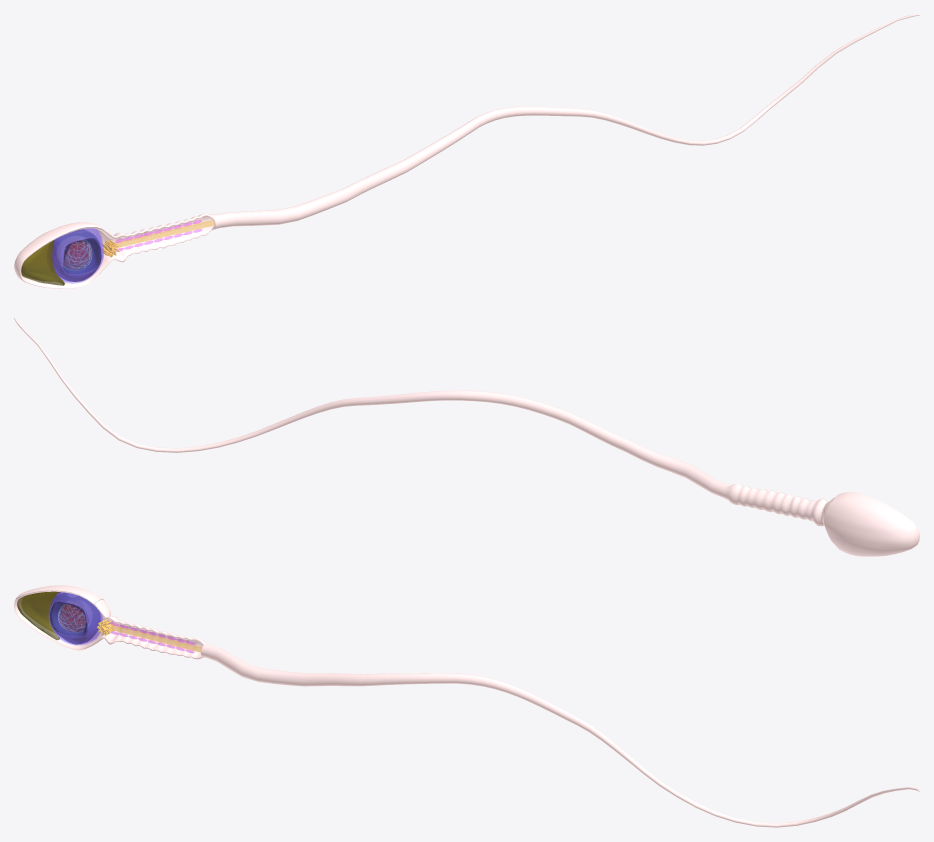
File: optimized_sperm.glb
3 views of the same model, one above another, from view 1: azimuth 30°, elevation 25°; view 2: azimuth 150°, elevation 25°; view 3: azimuth 330°, elevation 25° (orthographic). The views are drawn at different scales.
Parts seen in each view (by area): view 1: sperm; view 2: sperm; view 3: sperm.
Boxes of the visible parts, x1,y1,x2,y2 form: sperm: (14, 14, 919, 288); sperm: (14, 317, 919, 556); sperm: (14, 585, 919, 827).
Size of the model in its own units: 3 by 0.3455 by 0.3247.
